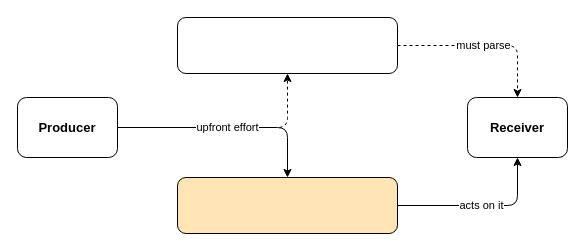
The diagram is 585 pixels wide and 251 high, and some of its shapes have lost their labels. Here are the shapes that lost their labels. From the top down, the box of each, then its label:
(176, 16, 398, 74): Team chat everything said
(176, 176, 398, 234): Handoff record task · contract · evidence
